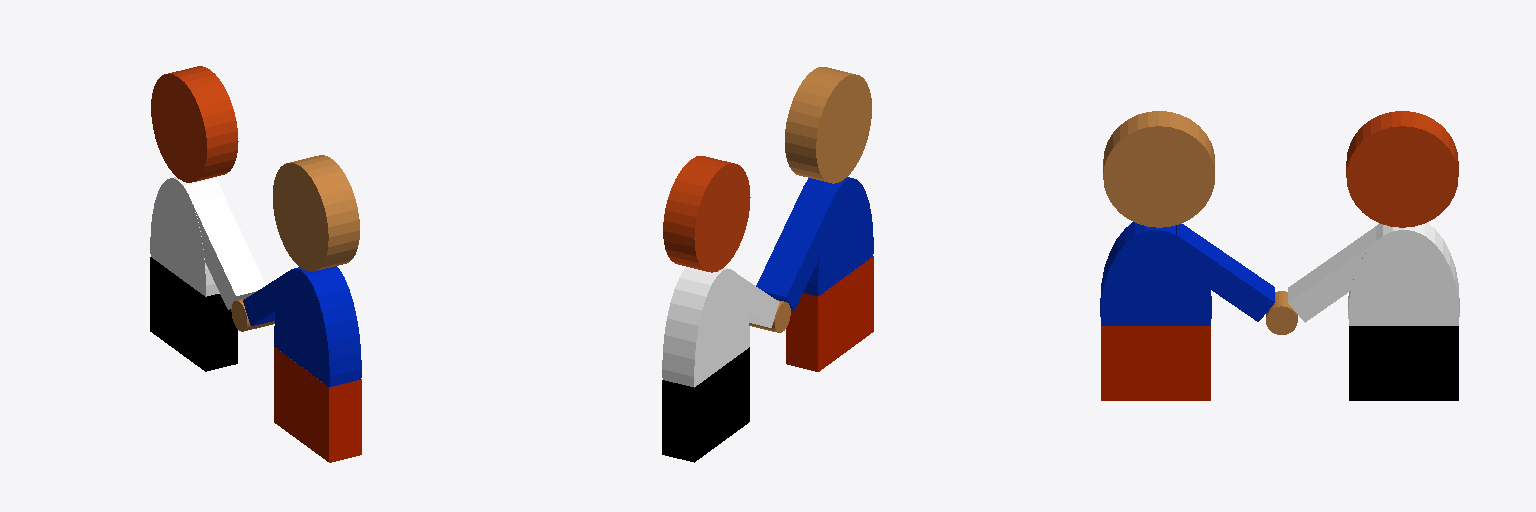
The model's file is makefriends.obj.
The picture shows the model from 3 angles: view 1: azimuth 30°, elevation 25°; view 2: azimuth 150°, elevation 25°; view 3: azimuth 270°, elevation 25°; orthographic projection.
Visible parts, largest first — view 1: Cylinder, Cylinder.001, Cylinder.007, Cube, Cube.006, Cylinder.006, Cube.007_Cube.008, Cube.001; view 2: Cylinder.006, Cylinder.001, Cylinder.007, Cube.006, Cube, Cylinder, Cube.001, Cube.007_Cube.008; view 3: Cylinder.007, Cylinder.001, Cylinder.006, Cylinder, Cube.006, Cube, Cube.001, Cube.007_Cube.008, Cylinder.008.
Boxes of the visible parts, x1=… form: Cylinder: x1=274, y1=266, x2=361, y2=386; Cylinder.001: x1=273, y1=155, x2=359, y2=271; Cylinder.007: x1=151, y1=66, x2=238, y2=182; Cube: x1=274, y1=347, x2=361, y2=462; Cube.006: x1=150, y1=257, x2=237, y2=371; Cylinder.006: x1=150, y1=177, x2=223, y2=296; Cube.007_Cube.008: x1=193, y1=195, x2=265, y2=309; Cube.001: x1=243, y1=267, x2=299, y2=325; Cylinder.006: x1=662, y1=267, x2=749, y2=387; Cylinder.001: x1=785, y1=67, x2=871, y2=183; Cylinder.007: x1=663, y1=156, x2=750, y2=272; Cube.006: x1=662, y1=347, x2=749, y2=462; Cube: x1=786, y1=256, x2=873, y2=371; Cylinder: x1=803, y1=177, x2=873, y2=295; Cube.001: x1=756, y1=186, x2=835, y2=310; Cube.007_Cube.008: x1=738, y1=275, x2=779, y2=327; Cylinder.007: x1=1346, y1=111, x2=1458, y2=227; Cylinder.001: x1=1103, y1=111, x2=1214, y2=227; Cylinder.006: x1=1348, y1=222, x2=1459, y2=325; Cylinder: x1=1100, y1=222, x2=1211, y2=325; Cube.006: x1=1349, y1=326, x2=1458, y2=400; Cube: x1=1101, y1=326, x2=1210, y2=400; Cube.001: x1=1176, y1=224, x2=1274, y2=321; Cube.007_Cube.008: x1=1288, y1=226, x2=1375, y2=322; Cylinder.008: x1=1266, y1=291, x2=1297, y2=334.
Bounding box in the file's own units: 0.395 × 3.22 × 3.81.